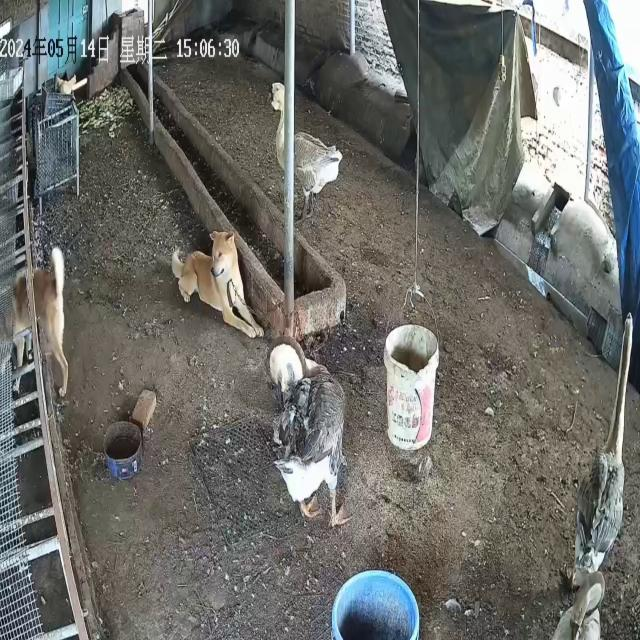dog: (172, 230, 265, 341), (12, 247, 70, 399)
